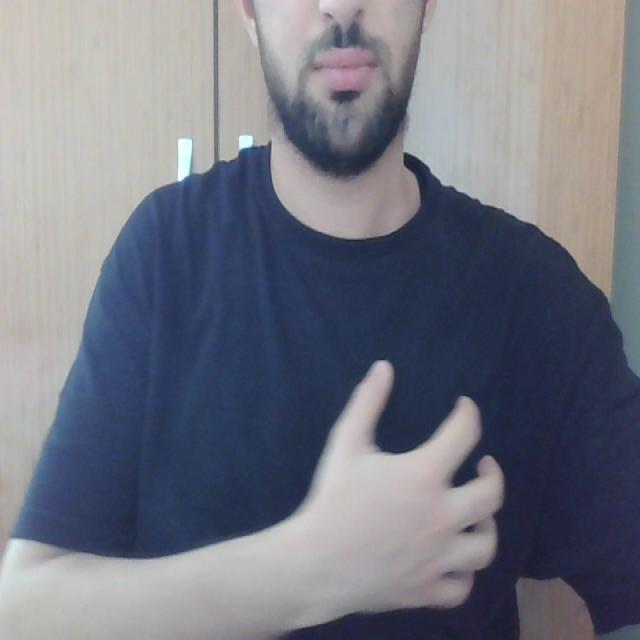Anne: (318, 348, 511, 623)
